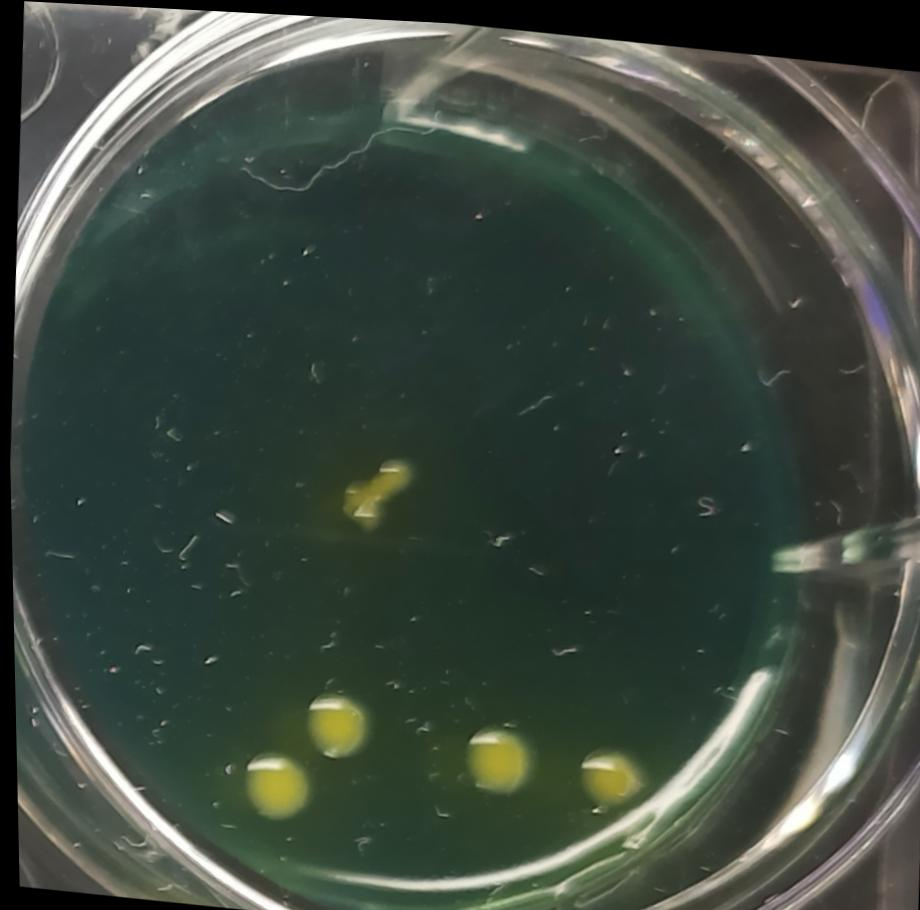vangil: (447, 707, 543, 811), (321, 428, 412, 531), (228, 737, 319, 833), (296, 674, 380, 769), (557, 730, 635, 814)
